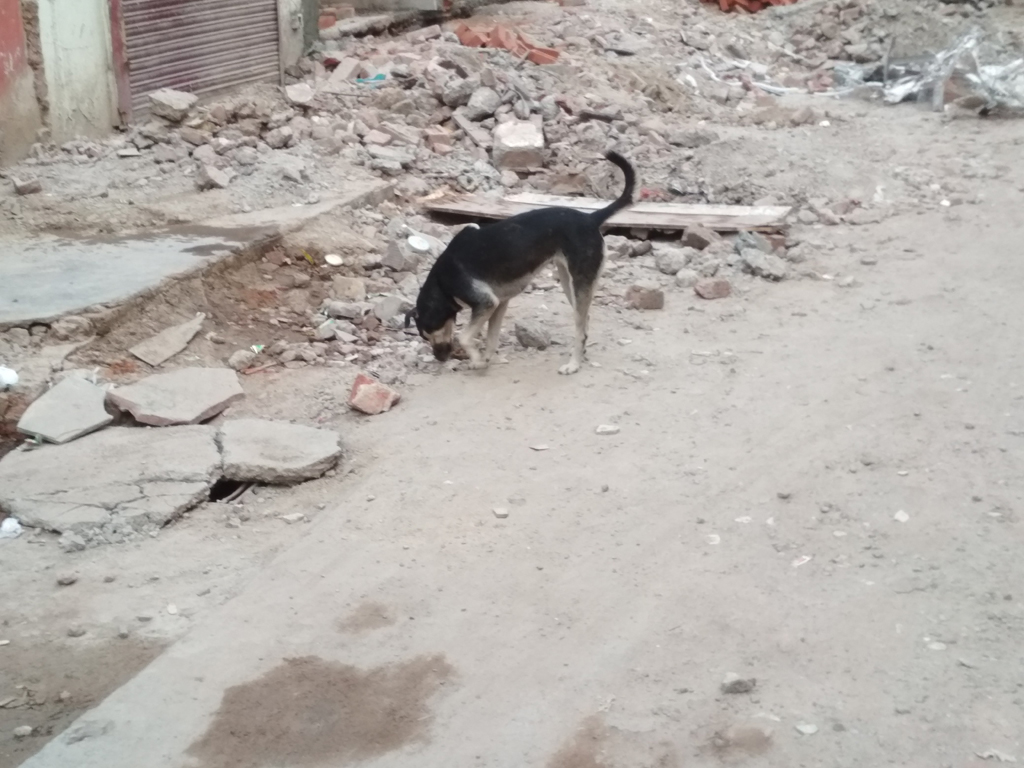dog: (405, 150, 636, 374)
